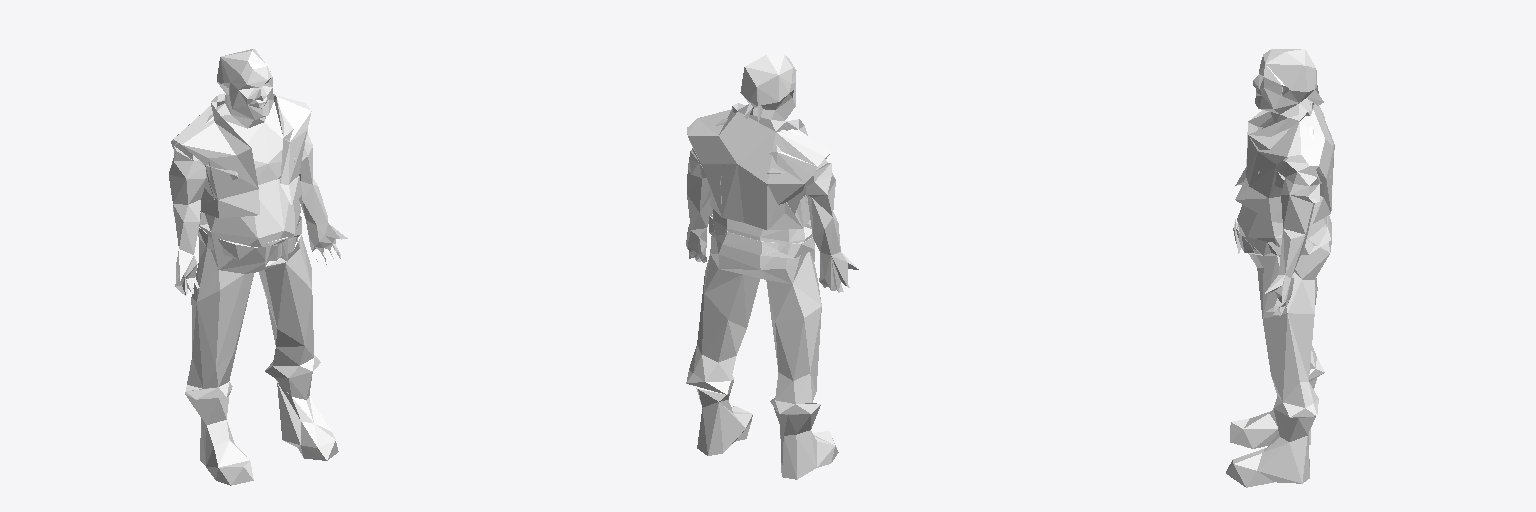
Rendered from pnj.obj.
3 renders of one model, left to right at view 1: azimuth 30°, elevation 25°; view 2: azimuth 150°, elevation 25°; view 3: azimuth 270°, elevation 25°, orthographic.
Parts seen in each view (by area): view 1: 14052PirateShipmateMuscular_cloth; view 2: 14052PirateShipmateMuscular_cloth; view 3: 14052PirateShipmateMuscular_cloth.
Boxes of the visible parts, <box> form: 14052PirateShipmateMuscular_cloth: <box>169,49,347,485</box>; 14052PirateShipmateMuscular_cloth: <box>686,55,858,479</box>; 14052PirateShipmateMuscular_cloth: <box>1226,49,1334,487</box>.
Size of the model in its own units: 0.5314 by 1.23 by 0.3004.